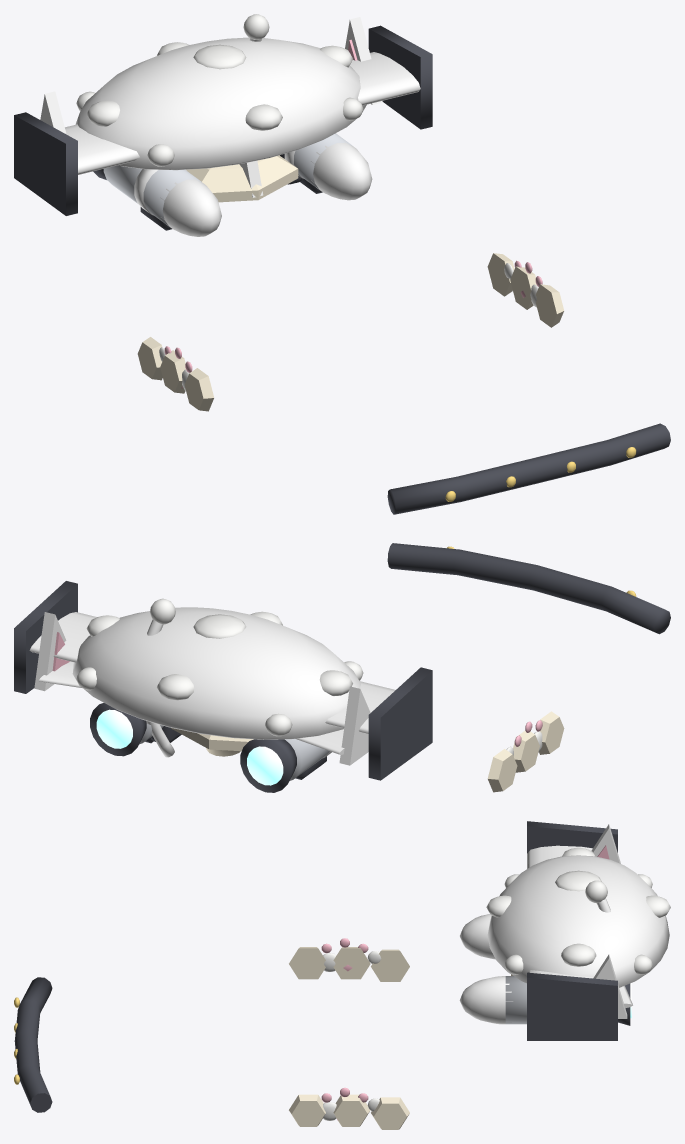
Rendered from kartkit.glb.
The picture shows the model from 3 angles, top to bottom: view 1: azimuth 30°, elevation 25°; view 2: azimuth 150°, elevation 25°; view 3: azimuth 270°, elevation 25°; orthographic projection. The views are drawn at different scales.
Visible parts, largest first — view 1: KX_0_Parts, KX_1_Parts, KX_2_Parts, KX_3_Parts; view 2: KX_0_Parts, KX_1_Parts, KX_2_Parts, KX_3_Parts; view 3: KX_0_Parts, KX_1_Parts, KX_2_Parts, KX_3_Parts.
Part boxes in pixels (x1=…): KX_0_Parts: x1=75, y1=37, x2=538, y2=390; KX_1_Parts: x1=14, y1=25, x2=670, y2=514; KX_2_Parts: x1=93, y1=133, x2=372, y2=236; KX_3_Parts: x1=40, y1=14, x2=542, y2=388; KX_0_Parts: x1=72, y1=607, x2=542, y2=756; KX_1_Parts: x1=14, y1=543, x2=670, y2=792; KX_2_Parts: x1=90, y1=703, x2=331, y2=792; KX_3_Parts: x1=34, y1=598, x2=542, y2=765; KX_0_Parts: x1=323, y1=847, x2=670, y2=1120; KX_1_Parts: x1=14, y1=821, x2=617, y2=1129; KX_2_Parts: x1=459, y1=914, x2=631, y2=1025; KX_3_Parts: x1=321, y1=824, x2=632, y2=1120.
Bounding box in the file's own units: 2.44 × 1.41 × 4.33.
